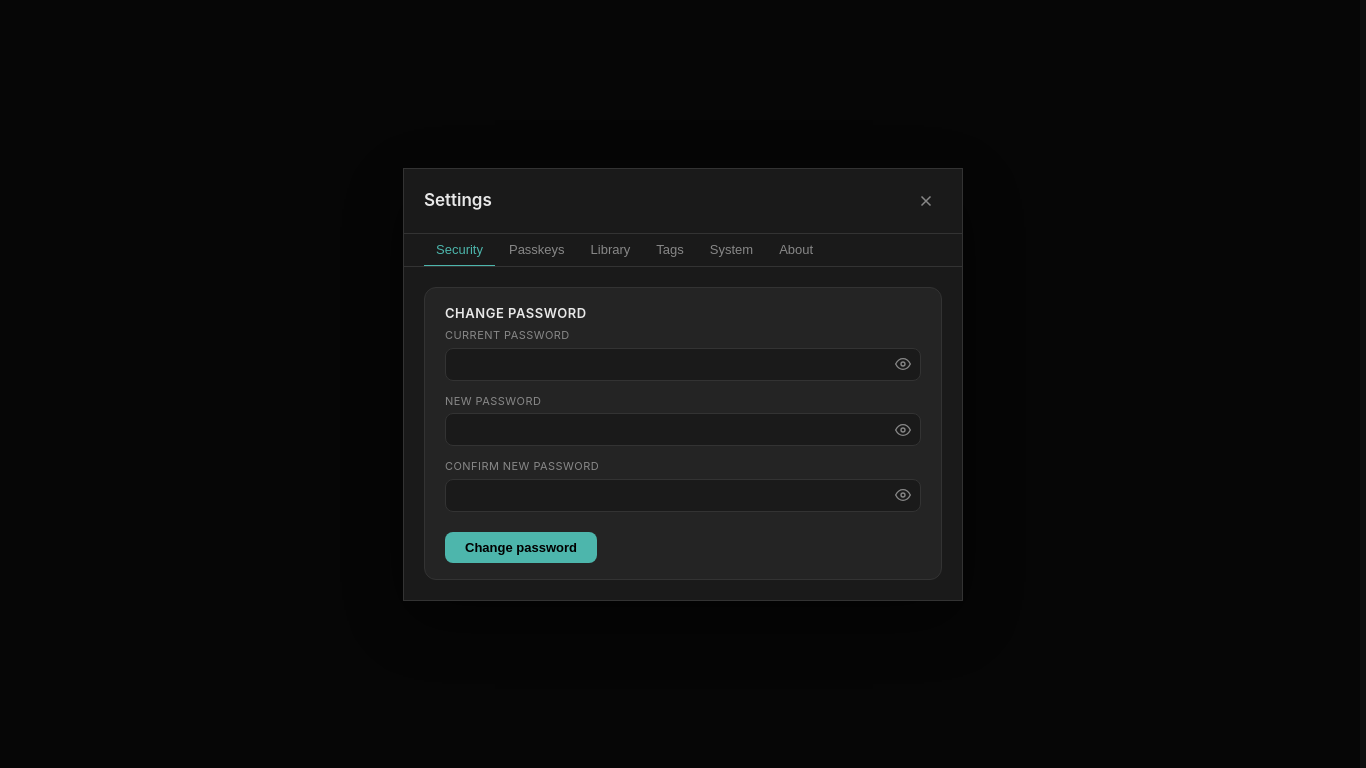
Test: SettingsModal — tags tab (display) › loads tags when the tab is activated
This screenshot has width=1366, height=768.
Click the tab "Tags" at [670, 250], box [644,234,696,266]
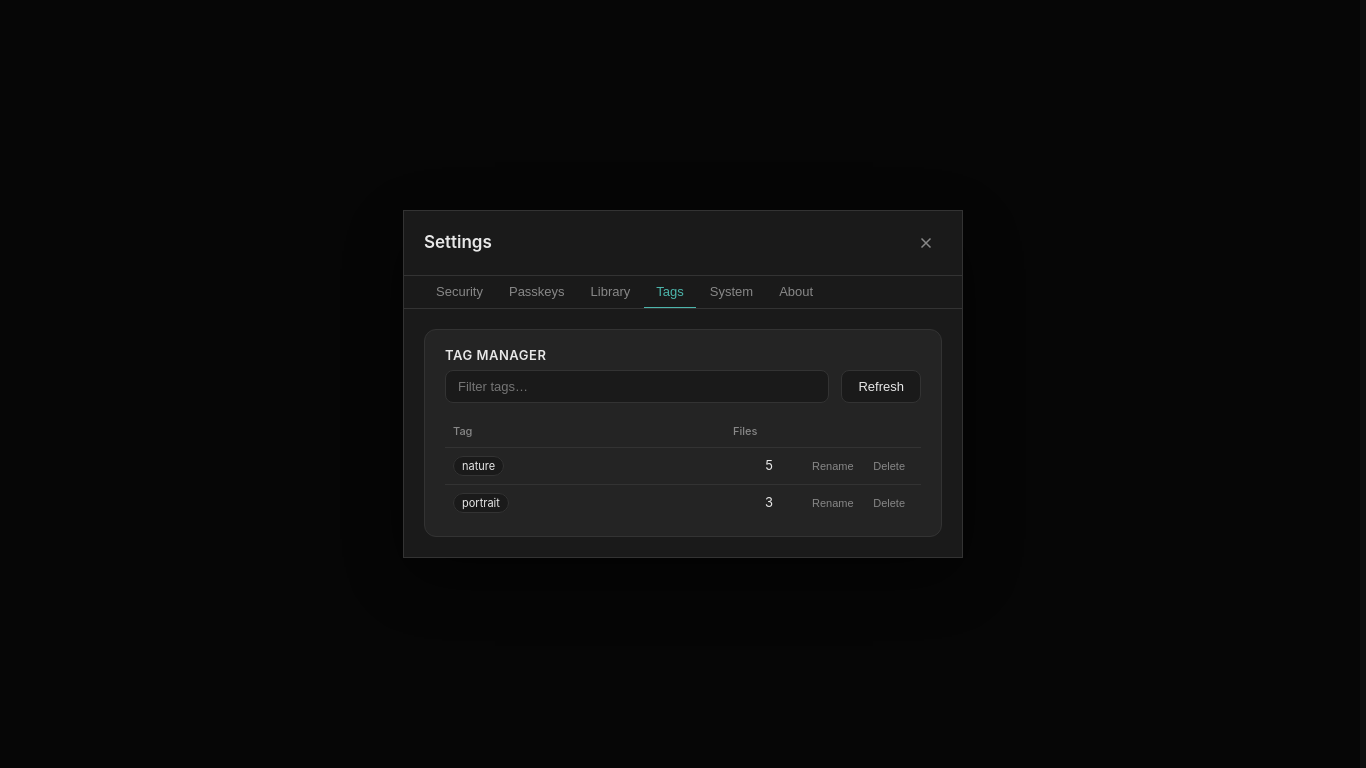
Check: the text "nature" is shown, box [453,456,504,476]
Check: the text "portrait" is shown, box [453,492,509,512]
